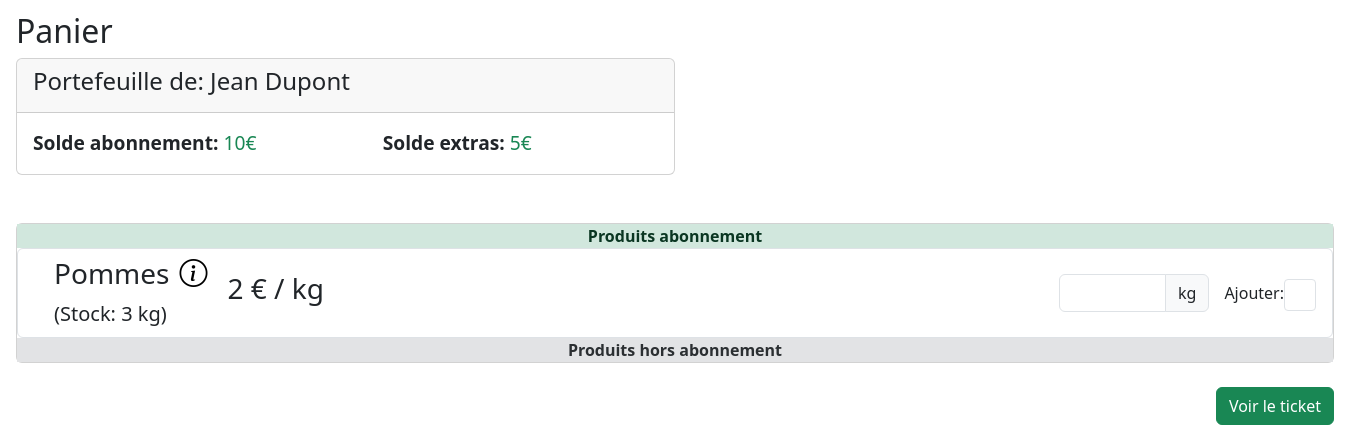
Test: ProductsPage › limite la quantité saisie au stock disponible
The image size is (1351, 442).
Step 1. Type "10" into the number field → x=1113, y=293, box [1059, 274, 1166, 312]
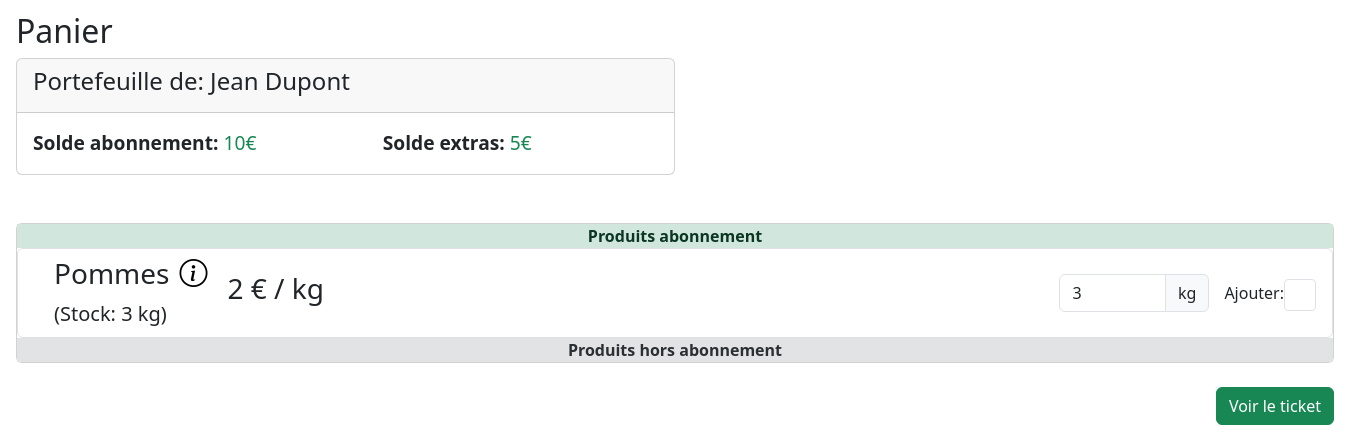
Check: the number field holds "3", box [1059, 274, 1166, 312]
